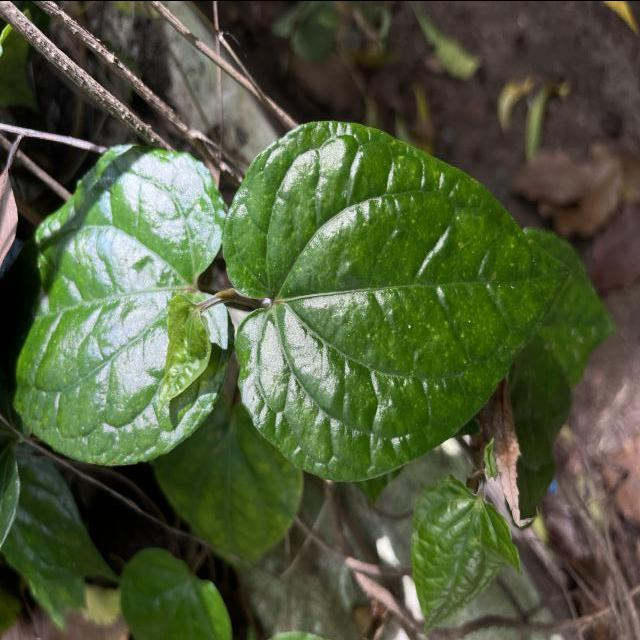Piper betle: (218, 117, 574, 486)
